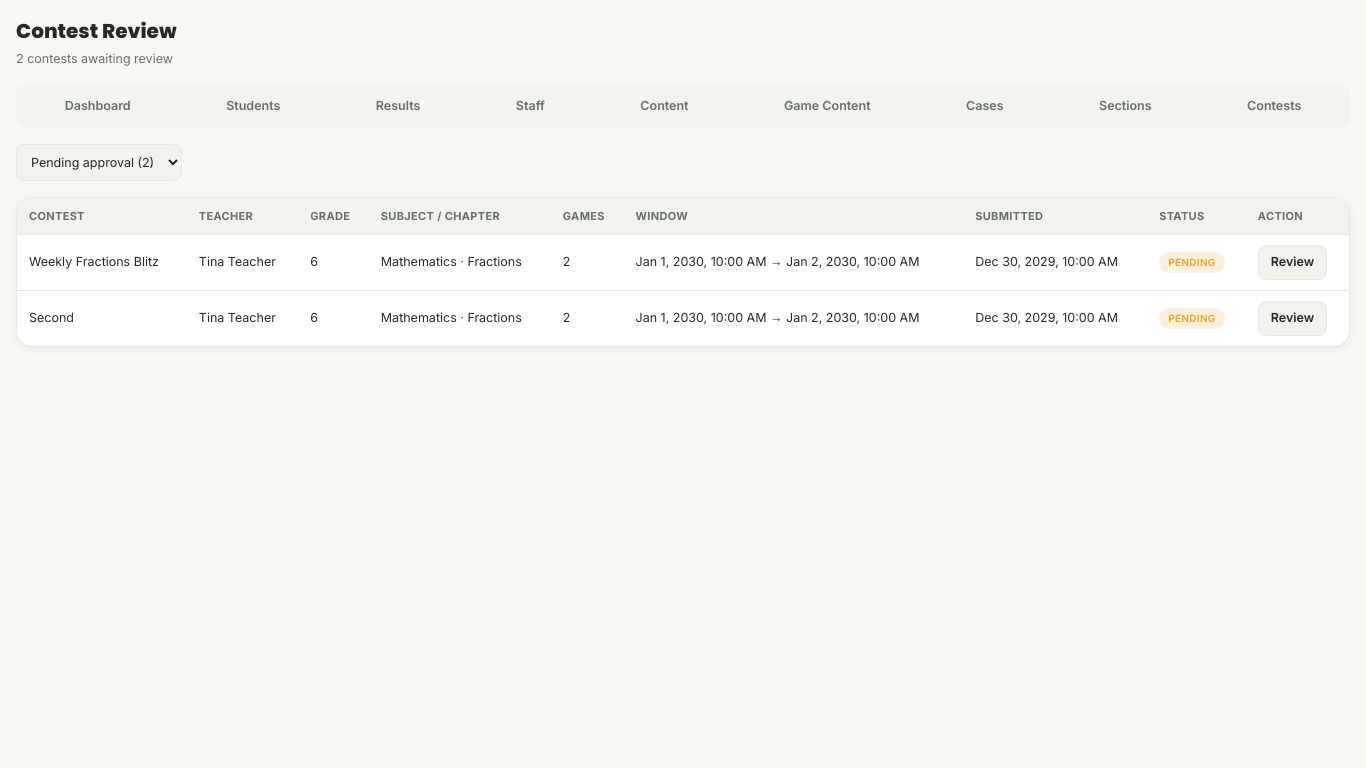
Test: review details modal › loads the contest detail and shows enough to decide (no answer keys are requested or shown)
Expected: the text "Weekly Fractions Blitz" is shown, x1=17 y1=234 x2=187 y2=290
Click the button "Review" in the row of "Weekly Fractions Blitz": (1293, 262) x1=1258 y1=245 x2=1327 y2=280
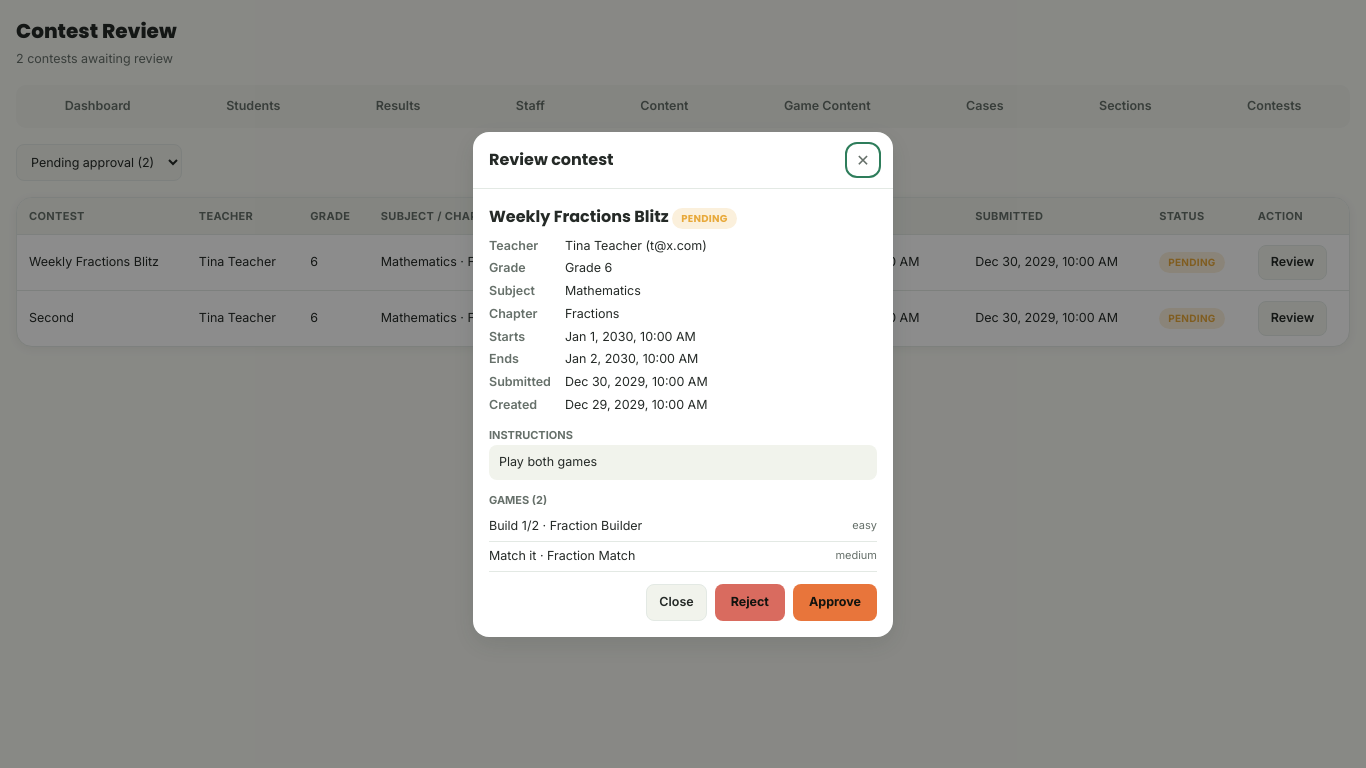
Result: the dialog is shown at x1=473 y1=132 x2=893 y2=636
Result: the text "Tina Teacher (t@x.com)" is shown at x1=565 y1=238 x2=707 y2=252
Result: the text "Play both games" is shown at x1=489 y1=445 x2=877 y2=480
